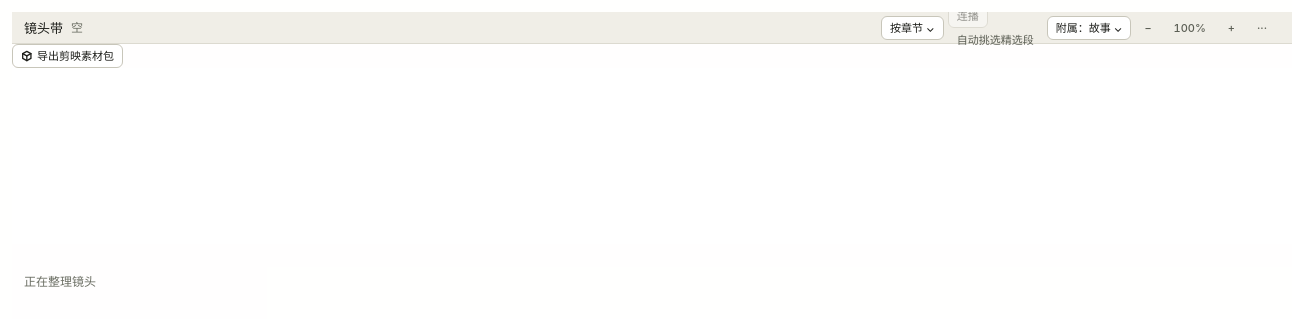
附属带分段控件 › 分段控件是 tablist,AX 名与五个 tab 名一字不差
Click the button "附属：故事 ⌄": (1089, 28) top-left (1047, 16), bottom-right (1131, 40)
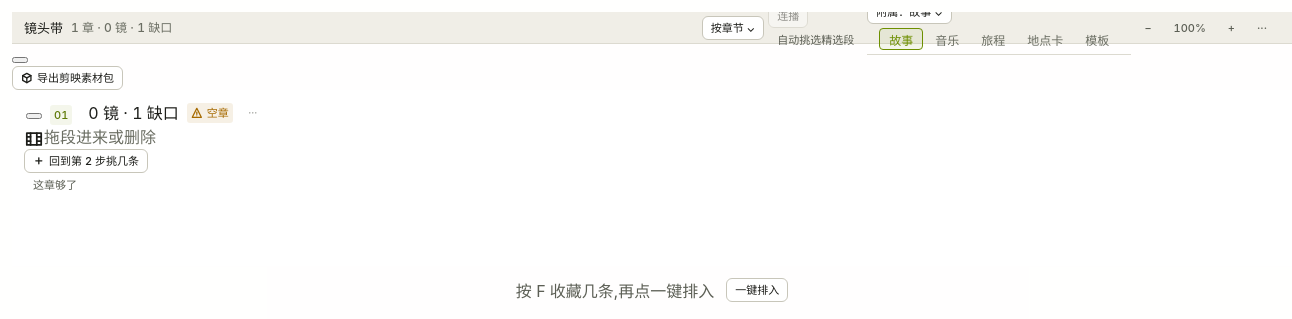
Now the element named "镜头带附属视图" is shown, box top-left (867, 24), bottom-right (1131, 55)
Now the tabs read "故事", "音乐", "旅程", "地点卡", "模板", in this order, box top-left (879, 28), bottom-right (923, 50); top-left (925, 28), bottom-right (969, 50); top-left (971, 28), bottom-right (1015, 50); top-left (1017, 28), bottom-right (1073, 50); top-left (1075, 28), bottom-right (1119, 50)
